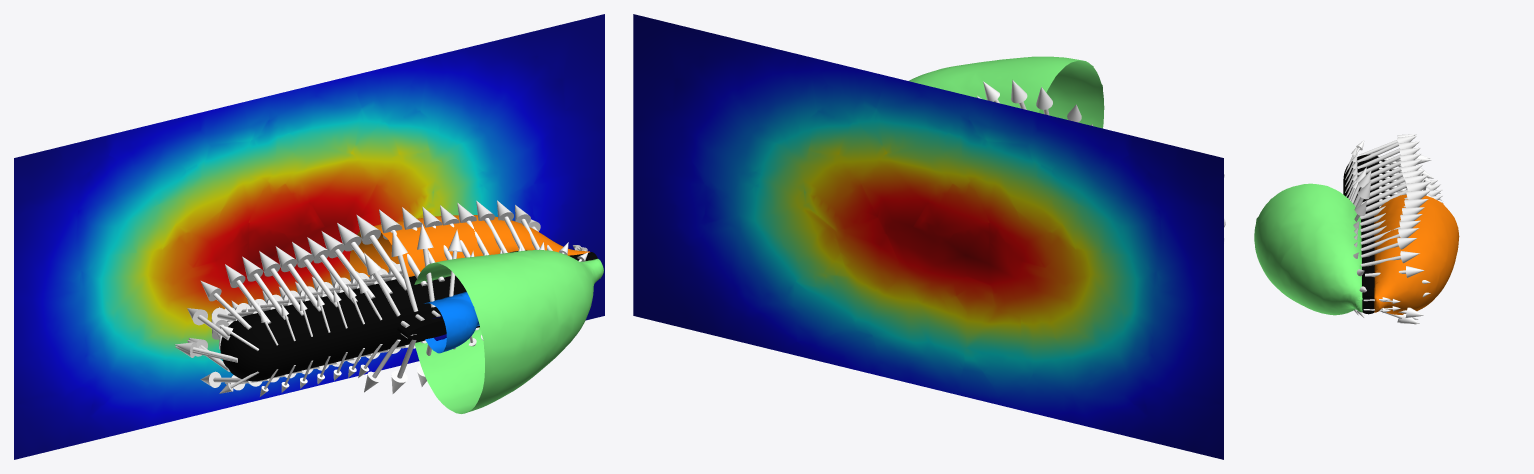
File: submarine1.glb
The picture shows the model from 3 angles, left to right: view 1: azimuth 30°, elevation 25°; view 2: azimuth 150°, elevation 25°; view 3: azimuth 270°, elevation 25°; orthographic projection. The views are drawn at different scales.
Bounding box in the file's own units: 51.2 × 25 × 26.35.
Materials: 4 (4 with a texture image).
